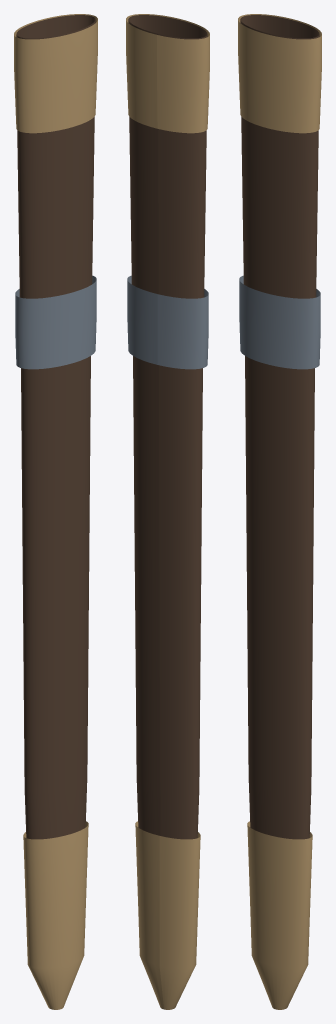
File: scabbard.glb
3 renders of one model, left to right at view 1: azimuth 30°, elevation 25°; view 2: azimuth 150°, elevation 25°; view 3: azimuth 330°, elevation 25°, orthographic.
Parts seen in each view (by area): view 1: scabbard_leather, brass_tip, brass_throat, suspension_band; view 2: scabbard_leather, brass_tip, brass_throat, suspension_band; view 3: scabbard_leather, brass_tip, brass_throat, suspension_band.
Boxes of the visible parts, x1,y1,x2,y2 form: scabbard_leather: (16, 15, 95, 839); brass_tip: (23, 821, 88, 1009); brass_throat: (14, 14, 97, 133); suspension_band: (15, 275, 96, 369); scabbard_leather: (128, 15, 207, 839); brass_tip: (135, 821, 200, 1009); brass_throat: (126, 14, 209, 133); suspension_band: (127, 275, 208, 369); scabbard_leather: (240, 15, 319, 839); brass_tip: (247, 821, 312, 1009); brass_throat: (238, 14, 321, 133); suspension_band: (239, 275, 320, 369).
Size of the model in its own units: 0.072 by 0.83 by 0.034.
